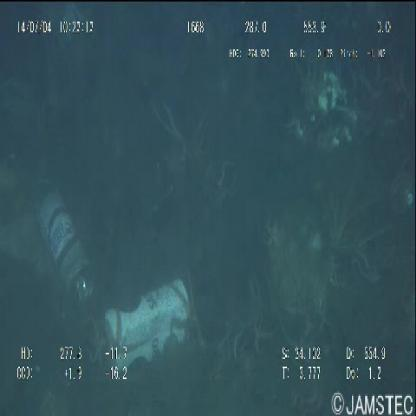Rác: (97, 278, 195, 378)
